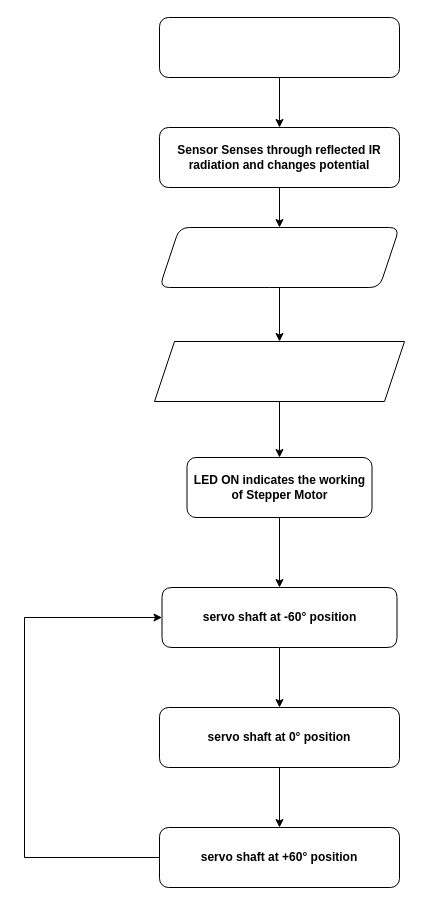
The diagram is 422 pixels wide and 905 high, and some of its shapes have lost their labels. The centre of each missing label's shape, as x and y in pixels:
"Power up Hardware" belongs at pixel 279 47.
"Set Output pin for Stepper Motor Timer count is set to 0" belongs at pixel 279 257.
"Stepper Motor Working above threshold potential" belongs at pixel 279 371.
